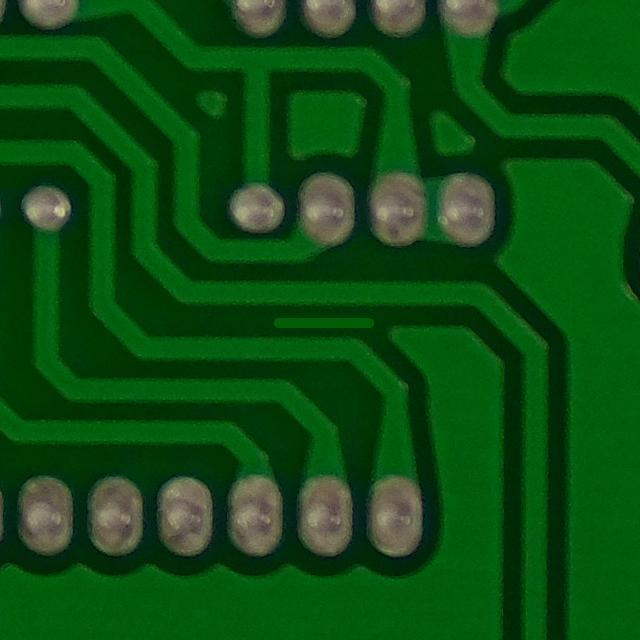spurious_copper: (255, 298, 385, 343)
